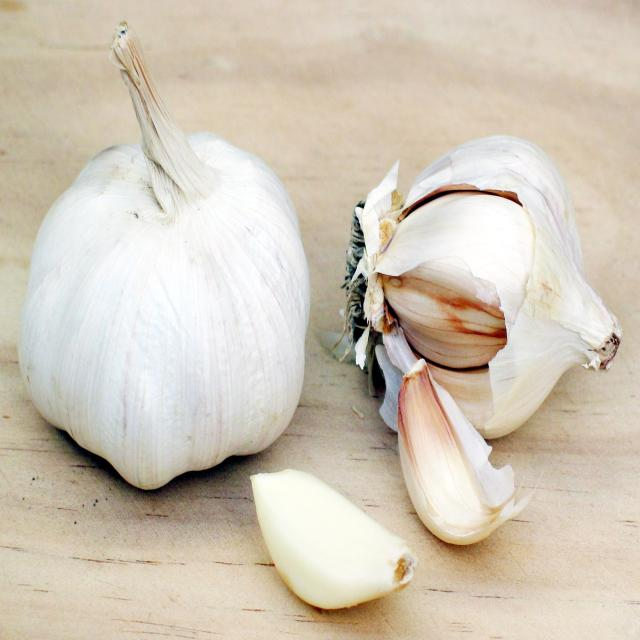garlic: (18, 23, 309, 488), (344, 136, 621, 437), (397, 358, 532, 544), (250, 469, 416, 608)
